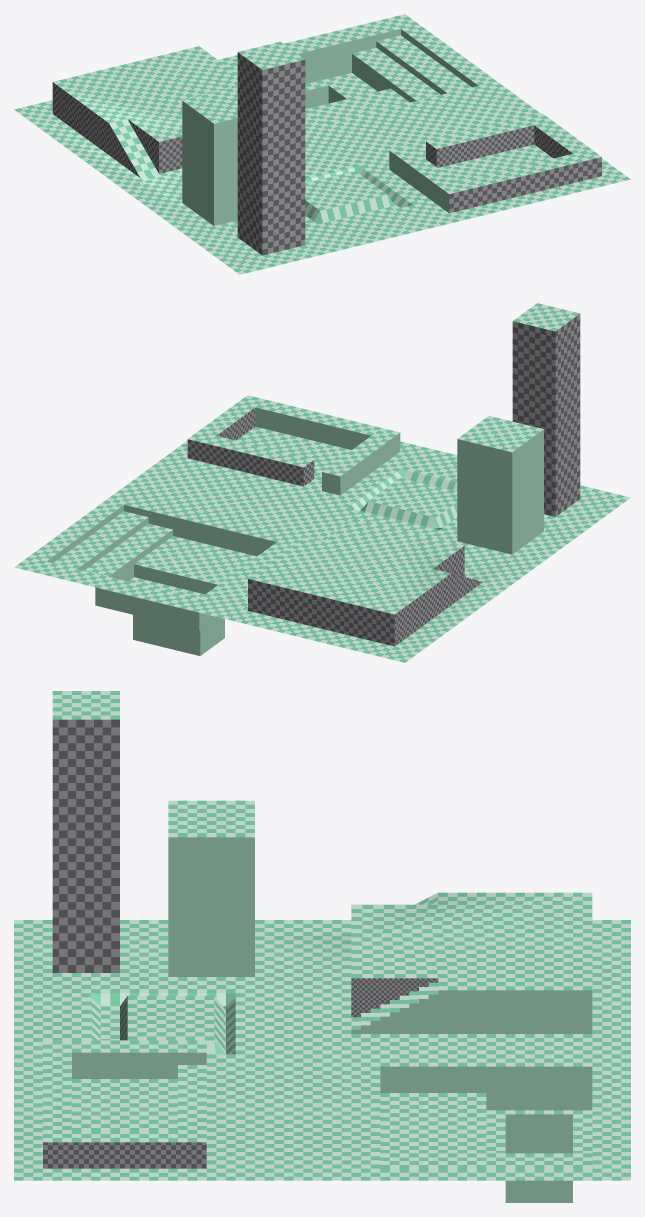
File: test_map_0.gltf
3 renders of one model, top to bottom at view 1: azimuth 30°, elevation 25°; view 2: azimuth 150°, elevation 25°; view 3: azimuth 270°, elevation 25°, orthographic. The views are drawn at different scales.
Visible parts, largest first — view 1: Plane; view 2: Plane; view 3: Plane.
Part boxes in pixels (x1,y1,x2,y2): Plane: (14, 14, 630, 274); Plane: (14, 303, 630, 662); Plane: (14, 691, 630, 1202).
Size of the model in its own units: 128 by 78 by 128.
Materials: 4 (4 with a texture image).
